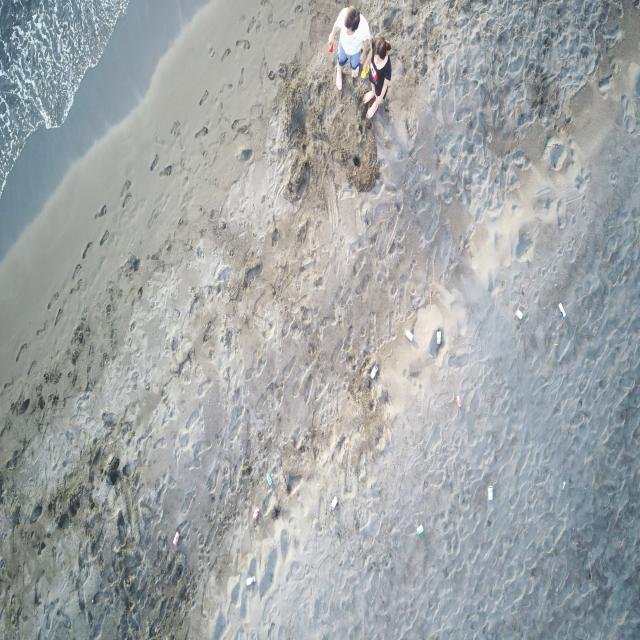tin-and-aluminum-cans: (344, 6, 361, 33), (557, 303, 567, 319), (405, 328, 414, 342), (370, 365, 378, 379), (515, 308, 524, 320), (246, 576, 256, 586), (173, 531, 180, 545), (331, 496, 338, 510), (488, 484, 493, 501), (266, 473, 272, 487), (253, 506, 259, 520), (456, 395, 462, 408), (436, 331, 442, 344), (417, 524, 423, 535)
